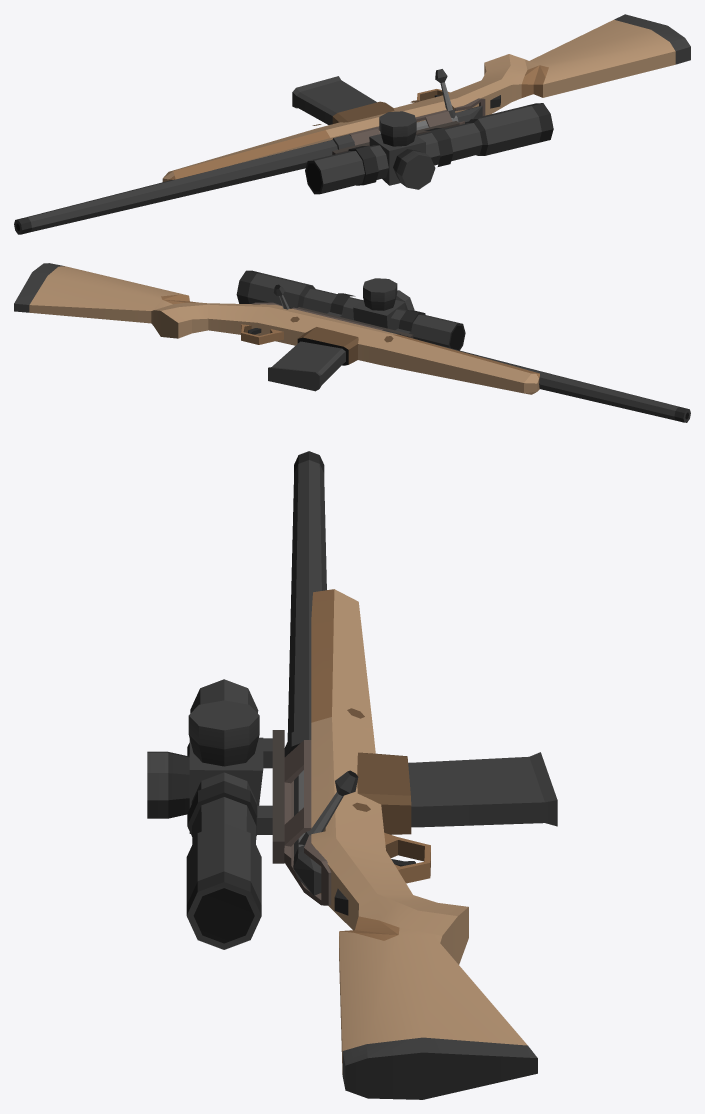
The model's file is AmericanPredator_3D.glb.
3 renders of one model, top to bottom at view 1: azimuth 30°, elevation 25°; view 2: azimuth 150°, elevation 25°; view 3: azimuth 270°, elevation 25°, orthographic. The views are drawn at different scales.
Parts seen in each view (by area): view 1: AmericanPredatorLowPoly; view 2: AmericanPredatorLowPoly; view 3: AmericanPredatorLowPoly.
Part boxes in pixels (x1,y1,x2,y2): AmericanPredatorLowPoly: (14,14,690,234); AmericanPredatorLowPoly: (14,263,690,422); AmericanPredatorLowPoly: (147,451,557,1099).
Size of the model in its own units: 0.9659 by 0.0855 by 0.2728.
Materials: 1 (1 with a texture image).
